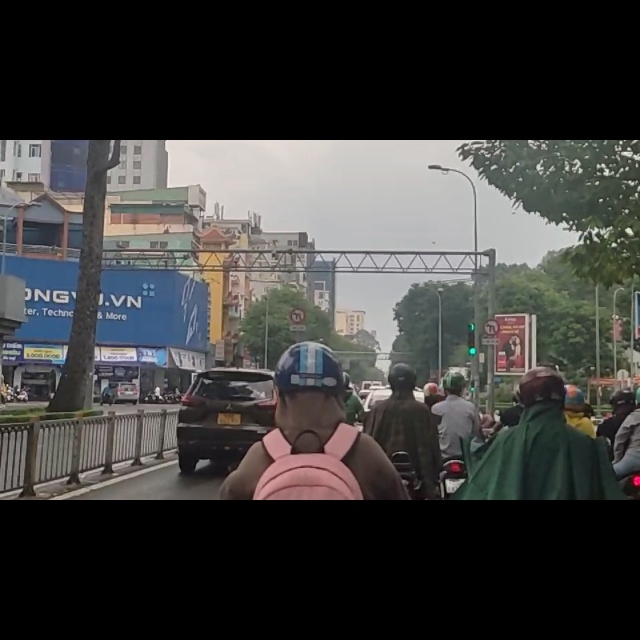bien_cam: (483, 316, 501, 348), (289, 296, 306, 328)
